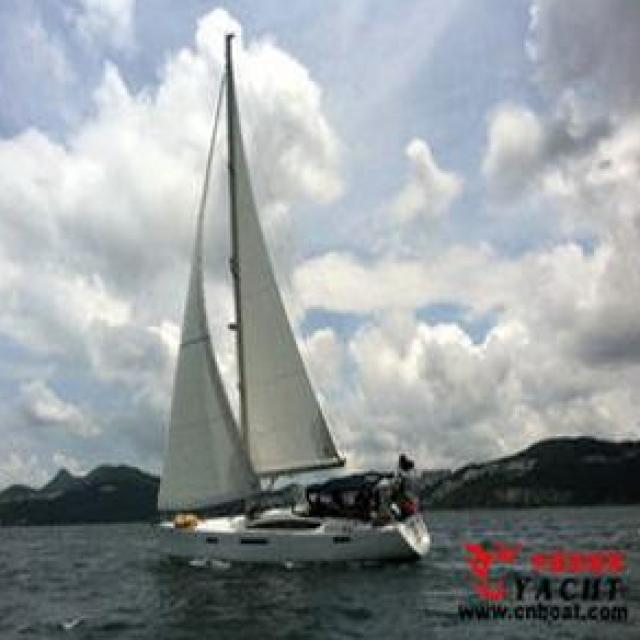sailboat: (133, 30, 433, 565)
